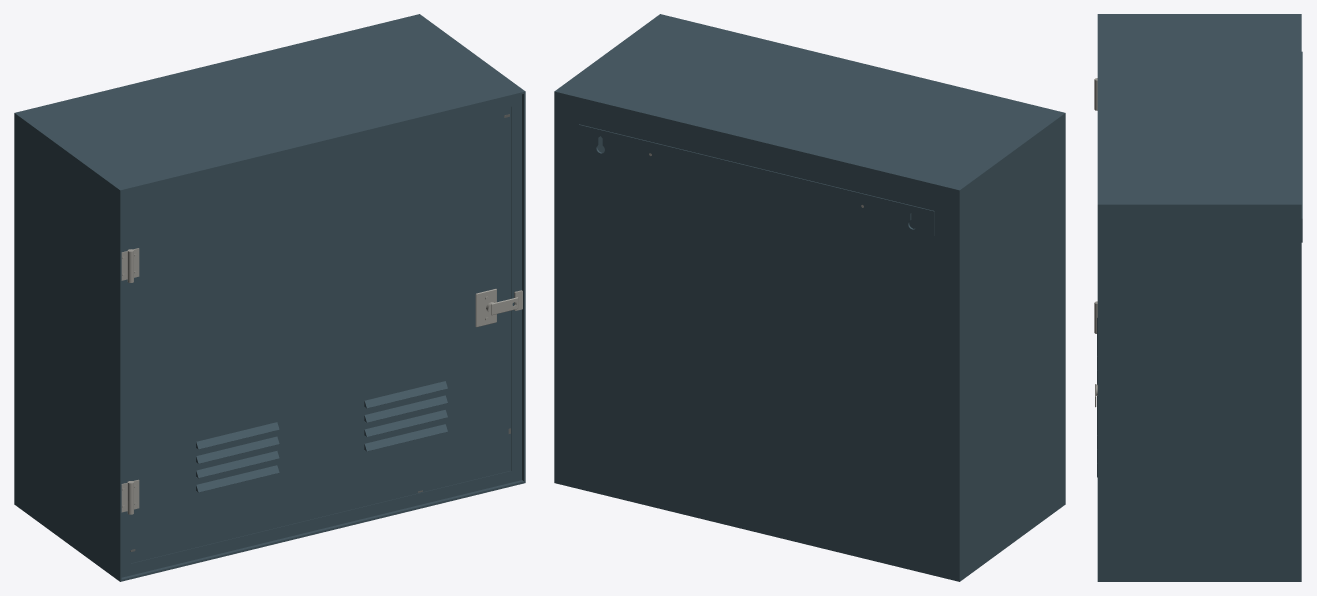
File: kitchen-wall-locker-c8306131d014.glb
The picture shows the model from 3 angles, left to right: view 1: azimuth 30°, elevation 25°; view 2: azimuth 150°, elevation 25°; view 3: azimuth 270°, elevation 25°; orthographic projection. The views are drawn at different scales.
Visible parts, largest first — view 1: enamel-blue, brushed; view 2: enamel-blue; view 3: enamel-blue, brushed.
Part boxes in pixels (x1,y1,x2,y2): enamel-blue: [14, 14, 525, 581]; brushed: [121, 248, 522, 514]; enamel-blue: [554, 14, 1065, 581]; enamel-blue: [1097, 14, 1302, 581]; brushed: [1094, 78, 1097, 407].
Bounding box in the file's own units: 0.65 × 0.6 × 0.3.
